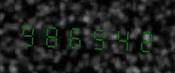eight: (40, 17, 62, 51)
four: (110, 21, 132, 55)
nine: (87, 19, 109, 54), (17, 16, 39, 50)
six: (64, 18, 86, 52)
two: (133, 22, 155, 56)
